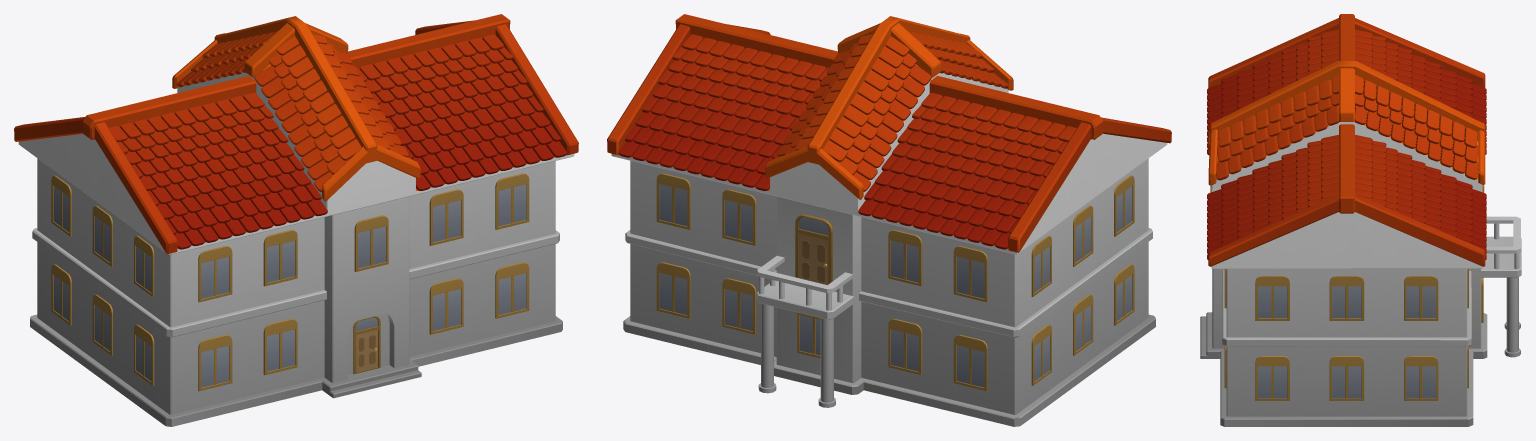
Rendered from building1.fbx.
The picture shows the model from 3 angles, left to right: view 1: azimuth 30°, elevation 25°; view 2: azimuth 150°, elevation 25°; view 3: azimuth 270°, elevation 25°; orthographic projection. The views are drawn at different scales.
Parts seen in each view (by area): view 1: pCube54; view 2: pCube54; view 3: pCube54.
Boxes of the visible parts, left/top/right/bottom form: pCube54: left=14, top=14, right=578, bottom=426; pCube54: left=607, top=14, right=1171, bottom=426; pCube54: left=1200, top=14, right=1521, bottom=426.
Bounding box in the file's own units: 10.9 × 7.65 × 8.
